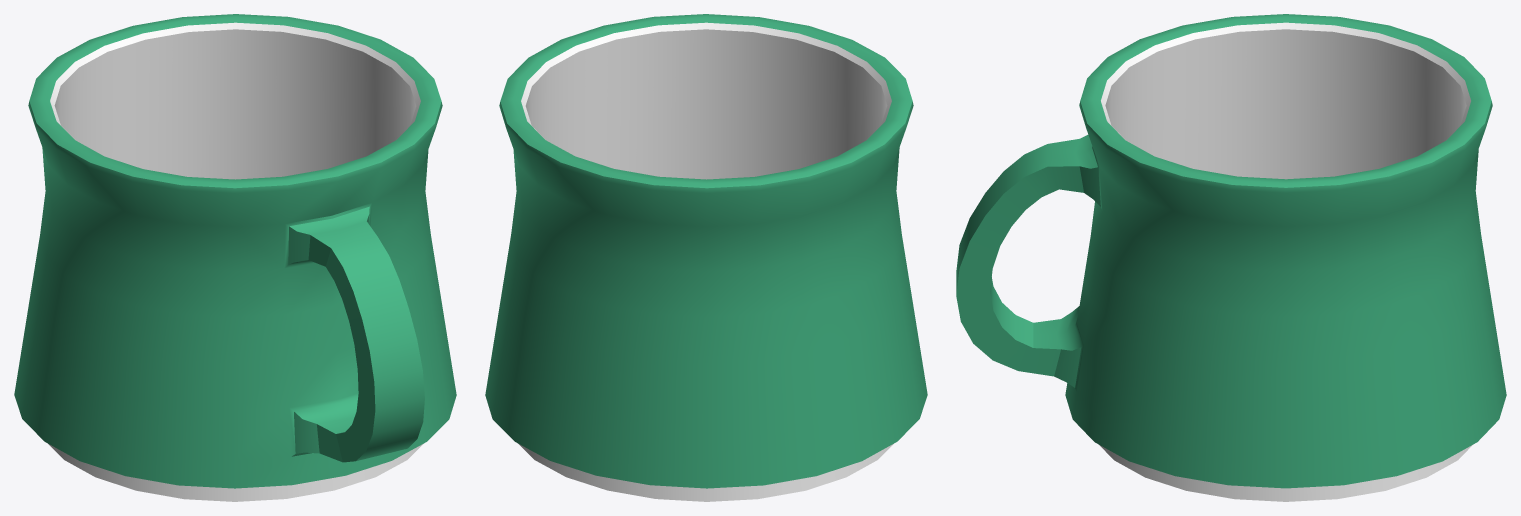
File: Cups_01.glb
3 renders of one model, left to right at view 1: azimuth 30°, elevation 25°; view 2: azimuth 150°, elevation 25°; view 3: azimuth 270°, elevation 25°, orthographic.
Parts seen in each view (by area): view 1: Mesh_Cups_01; view 2: Mesh_Cups_01; view 3: Mesh_Cups_01.
Boxes of the visible parts, x1,y1,x2,y2 form: Mesh_Cups_01: (14, 14, 456, 501); Mesh_Cups_01: (485, 14, 927, 501); Mesh_Cups_01: (956, 14, 1506, 501).
Size of the model in its own units: 0.1179 by 0.094 by 0.147.
1 material, 1 textured.
